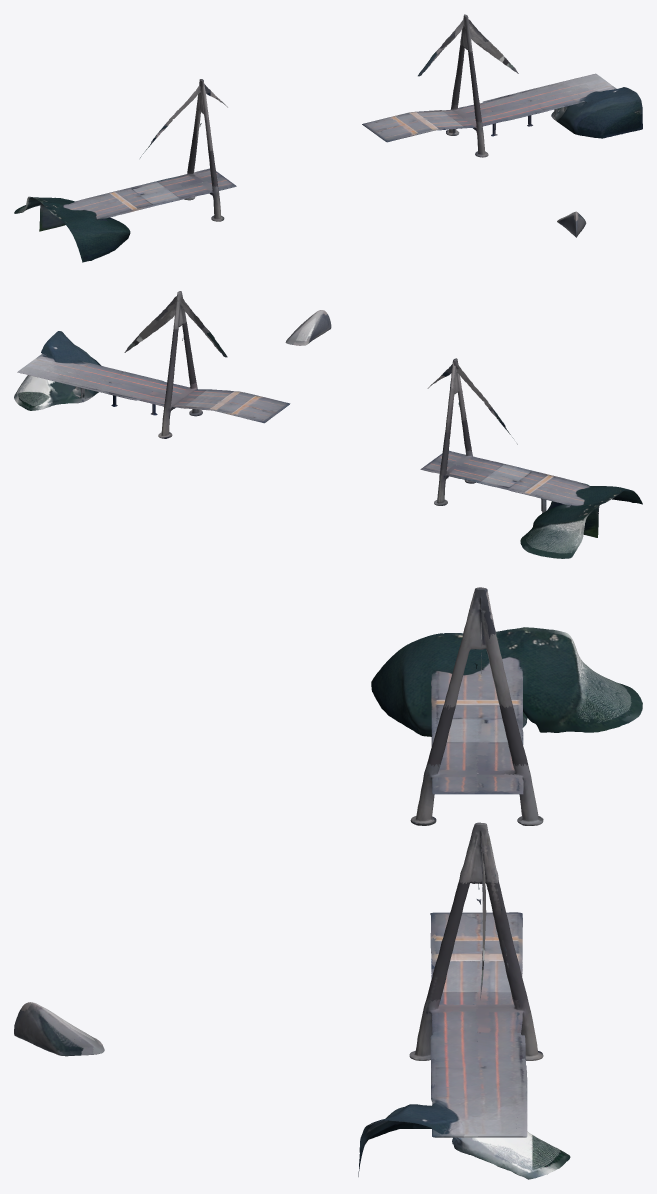
Rendered from construction-04.glb.
3 views of the same model, one above another, from view 1: azimuth 30°, elevation 25°; view 2: azimuth 150°, elevation 25°; view 3: azimuth 270°, elevation 25° (orthographic). The views are drawn at different scales.
Size of the model in its own units: 1.9 by 0.4152 by 1.02.
Materials: 1 (1 with a texture image).
